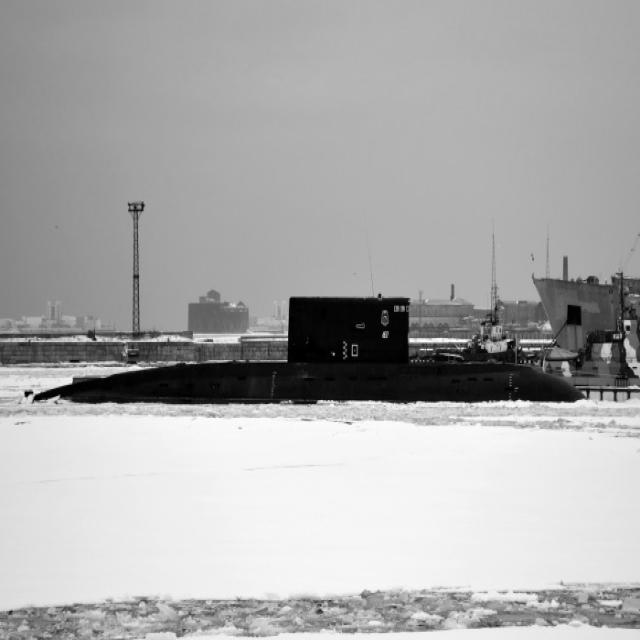submarine: (1, 283, 603, 403)
